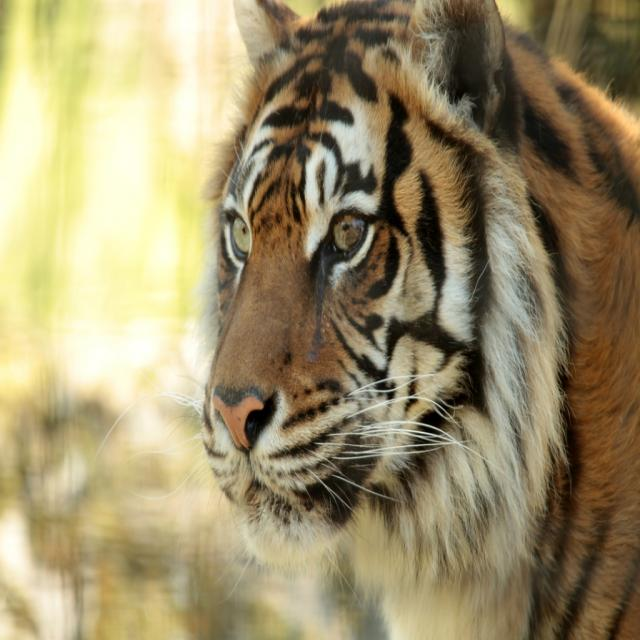Tiger: (93, 0, 639, 639)
